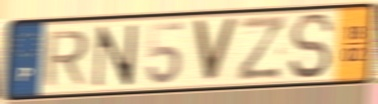5: (145, 20, 185, 86)
N: (91, 22, 140, 89)
R: (41, 28, 91, 89)
S: (287, 11, 336, 82)
V: (190, 18, 241, 85)
Z: (235, 14, 288, 84)
